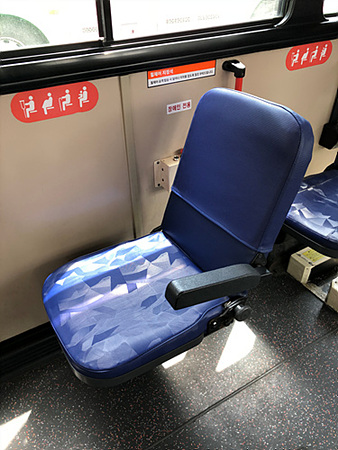seat: (40, 89, 310, 367)
